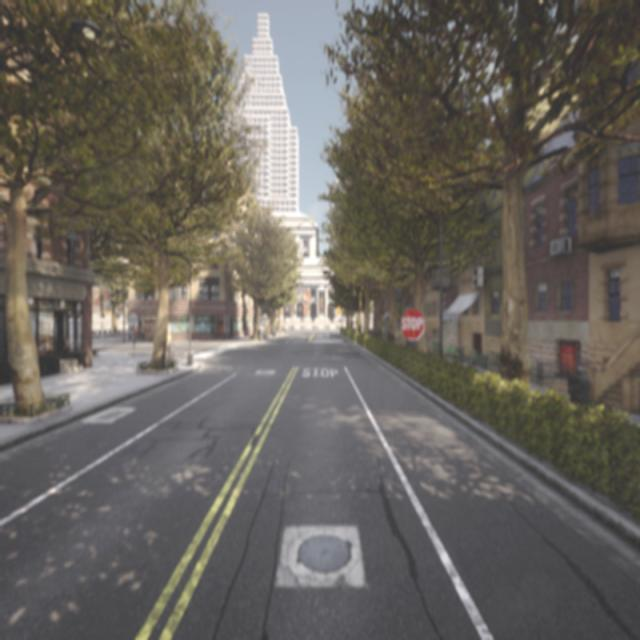stop sign: (398, 304, 428, 343), (400, 313, 424, 334)
